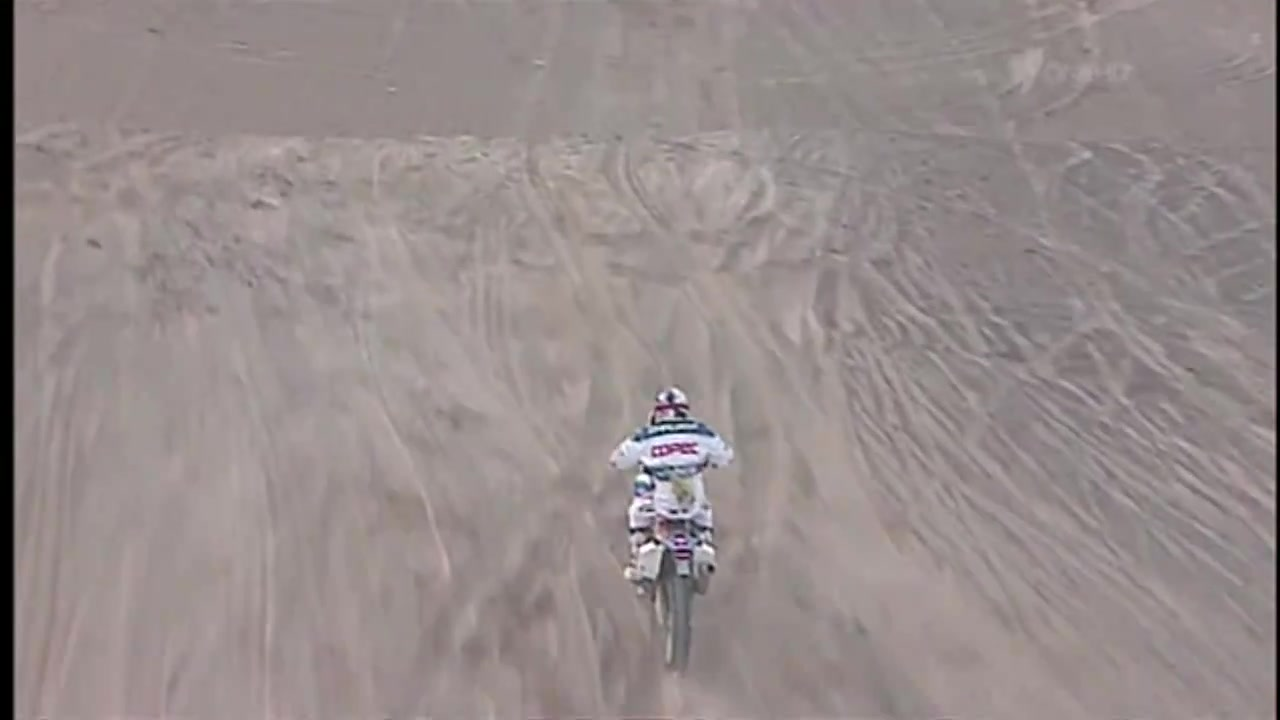motorbike: (625, 499, 715, 675)
